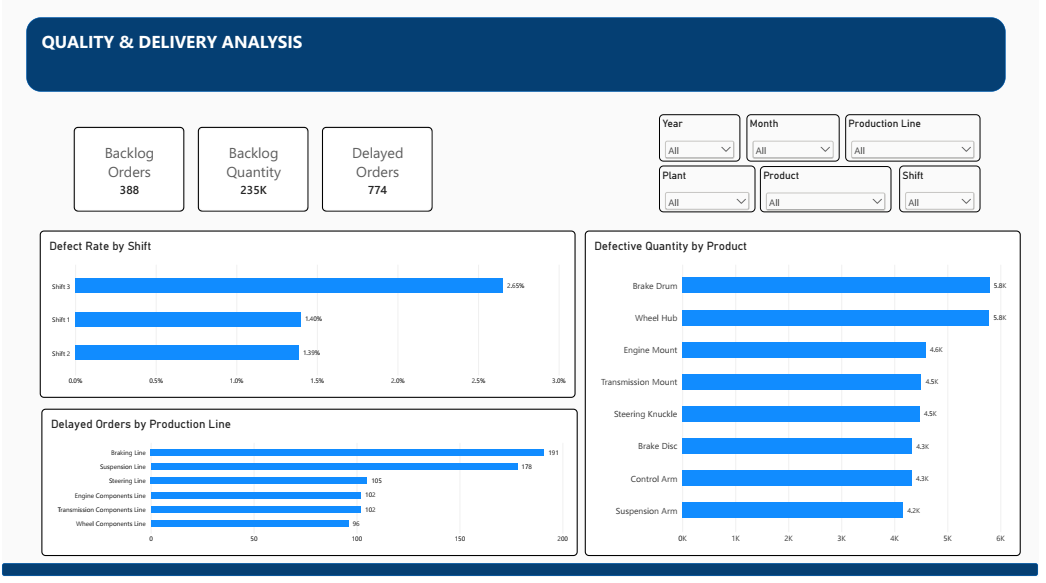

Layout of this report page (visuals, bound fields, positions):
{"tool":"powerbi","page":{"name":"Quality & Delivery","canvas":[1920,1080],"ordinal":2},"visuals":[{"type":"shape","box":[45,45,1815,137.5],"z":0},{"type":"clusteredBarChart","title":"Defect Rate by Shift","fields":{"Category":["production_orders.shift"],"Y":["_Measures.Defect Rate %"]},"box":[70,440,992.5,310],"z":1000},{"type":"textbox","box":[74,67.4,680,51.7],"z":2000},{"type":"textbox","box":[87.3,119,576.7,50],"z":3000},{"type":"slicer","title":"Year","fields":{"Values":["calendar.year"]},"box":[1218.3,225,150,86.7],"z":4000},{"type":"slicer","title":"Month","fields":{"Values":["calendar.month_name"]},"box":[1380,225,171.7,86.7],"z":5000},{"type":"slicer","title":"Plant","fields":{"Values":["production_lines.plant"]},"box":[1217.5,320,178,86],"z":6000},{"type":"slicer","title":"Product","fields":{"Values":["products.product_name"]},"box":[1405.3,321,242.4,85],"z":7000},{"type":"slicer","title":"Shift","fields":{"Values":["production_orders.shift"]},"box":[1662.5,320,150,86],"z":8000},{"type":"shape","box":[0,1056,1920,24],"z":9000},{"type":"cardVisual","fields":{"Data":["_Measures.Backlog Orders"]},"box":[132.5,247.5,205,157.5],"z":10000},{"type":"cardVisual","fields":{"Data":["_Measures.Backlog Quantity"]},"box":[362.5,247.5,205,157.5],"z":11000},{"type":"cardVisual","fields":{"Data":["_Measures.Delayed Orders"]},"box":[592.5,247.5,205,157.5],"z":12000},{"type":"slicer","title":"Production Line","fields":{"Values":["production_lines.line_name"]},"box":[1563.3,225,250,86.7],"z":13000},{"type":"clusteredBarChart","title":"Defective Quantity by Product","fields":{"Category":["products.product_name"],"Y":["_Measures.Defective Quantity"]},"box":[1080,440,808.3,603.3],"z":14000},{"type":"clusteredBarChart","title":"Delayed Orders by Production Line","fields":{"Category":["production_lines.line_name"],"Y":["_Measures.Delayed Orders"]},"box":[73.3,770,993.3,273.3],"z":15000}]}

Visuals, with their boxes in screenshot pixels (x1, y1, x2, y2), scaled from the page's 1920x1080 canvas onto the 1046x583 screenshot:
shape: (left=25, top=24, right=1013, bottom=99)
"Defect Rate by Shift" clusteredBarChart: (left=38, top=238, right=579, bottom=405)
textbox: (left=40, top=36, right=411, bottom=64)
textbox: (left=48, top=64, right=362, bottom=91)
"Year" slicer: (left=664, top=121, right=745, bottom=168)
"Month" slicer: (left=752, top=121, right=845, bottom=168)
"Plant" slicer: (left=663, top=173, right=760, bottom=219)
"Product" slicer: (left=766, top=173, right=898, bottom=219)
"Shift" slicer: (left=906, top=173, right=987, bottom=219)
shape: (left=0, top=570, right=1045, bottom=582)
cardVisual - _Measures.Backlog Orders: (left=72, top=134, right=184, bottom=219)
cardVisual - _Measures.Backlog Quantity: (left=197, top=134, right=309, bottom=219)
cardVisual - _Measures.Delayed Orders: (left=323, top=134, right=434, bottom=219)
"Production Line" slicer: (left=852, top=121, right=988, bottom=168)
"Defective Quantity by Product" clusteredBarChart: (left=588, top=238, right=1029, bottom=563)
"Delayed Orders by Production Line" clusteredBarChart: (left=40, top=416, right=581, bottom=563)
